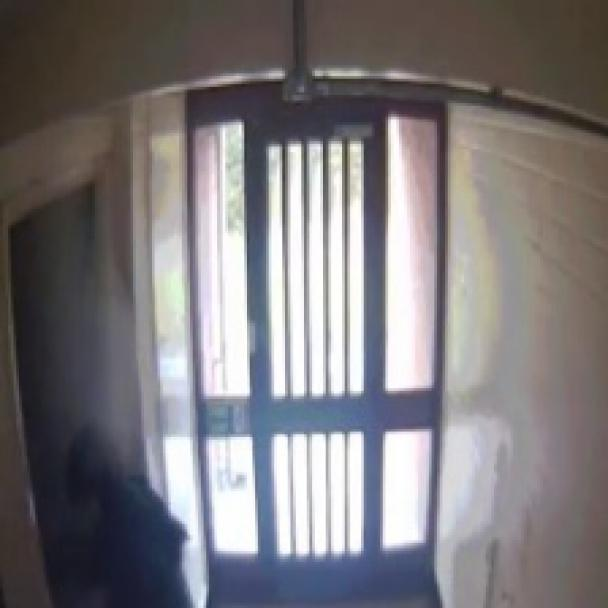smoke: (28, 283, 221, 532)
